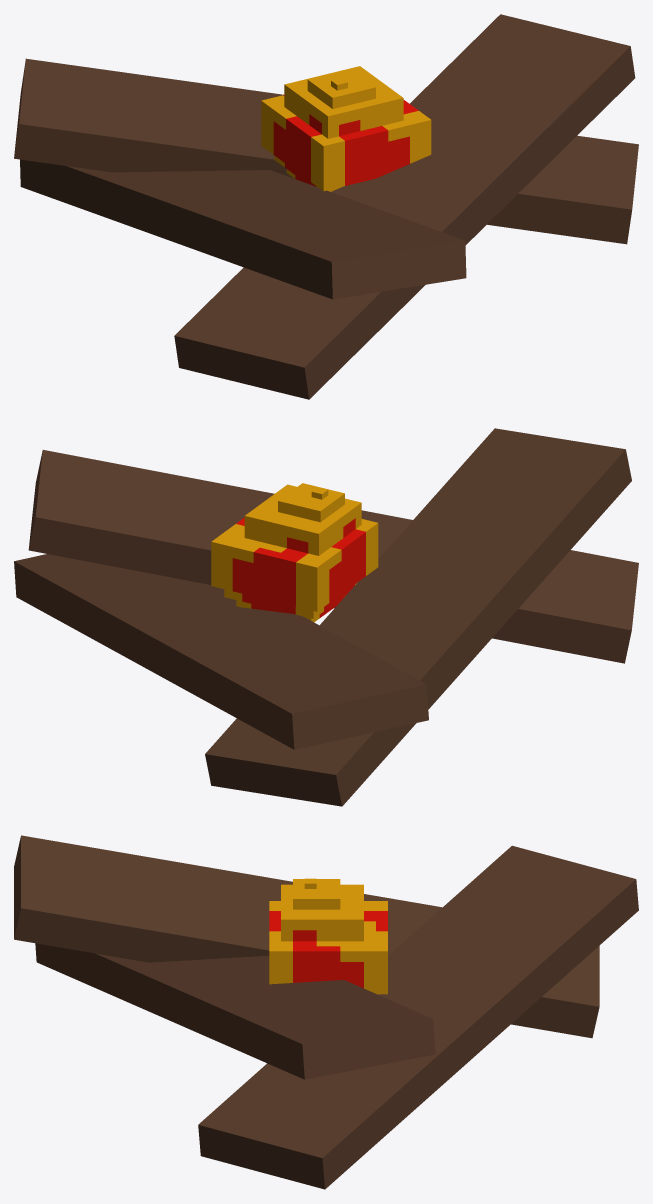
File: fire.fbx
3 renders of one model, top to bottom at view 1: azimuth 30°, elevation 25°; view 2: azimuth 150°, elevation 25°; view 3: azimuth 270°, elevation 25°, orthographic. The views are drawn at different scales.
Parts seen in each view (by area): view 1: wood, Cube; view 2: wood, Cube; view 3: wood, Cube.
Boxes of the visible parts, x1,y1,x2,y2 form: wood: (14,14,638,399); Cube: (261,66,431,191); wood: (14,428,638,806); Cube: (211,483,378,622); wood: (14,835,638,1189); Cube: (269,878,387,994).
Bounding box in the file's own units: 153 × 49.02 × 159.
